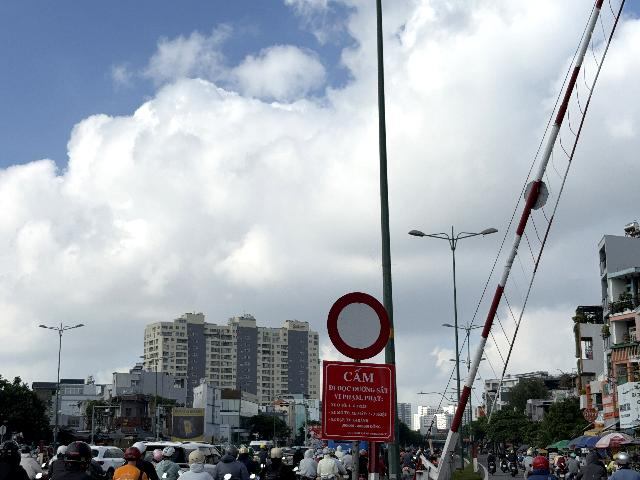duong-cam: (327, 292, 390, 360)
